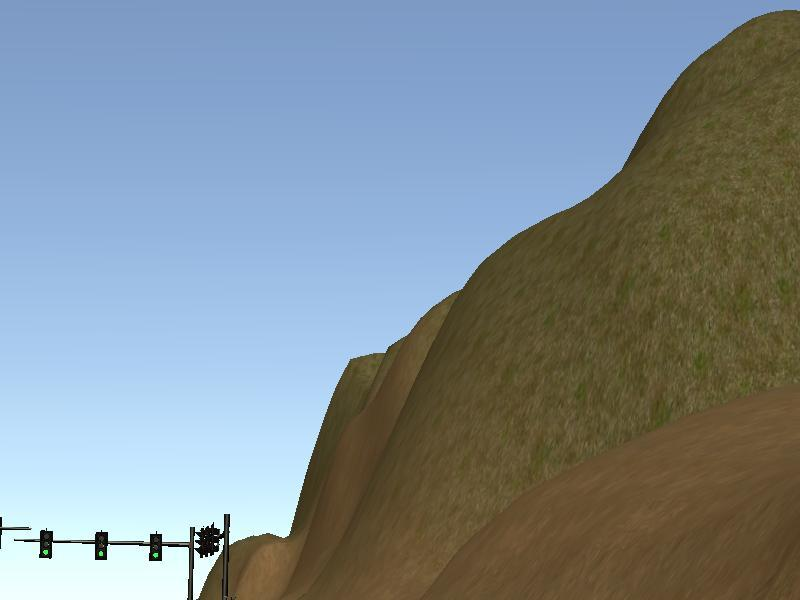Green: (149, 534, 161, 562), (95, 531, 107, 559), (40, 529, 52, 557)
